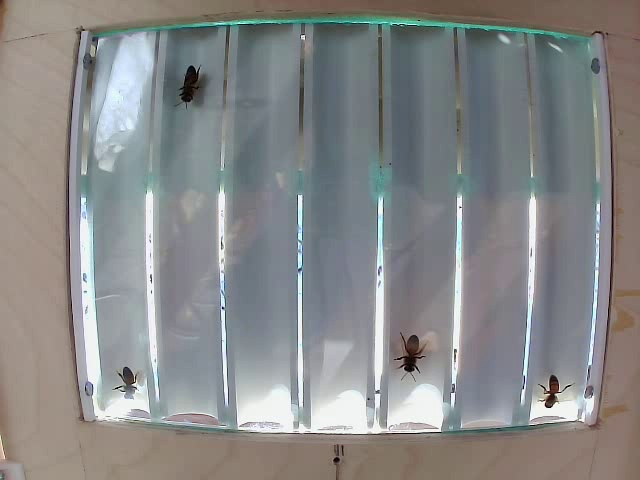bee: (172, 64, 212, 112), (107, 361, 145, 394), (401, 335, 428, 377), (537, 374, 564, 413)
